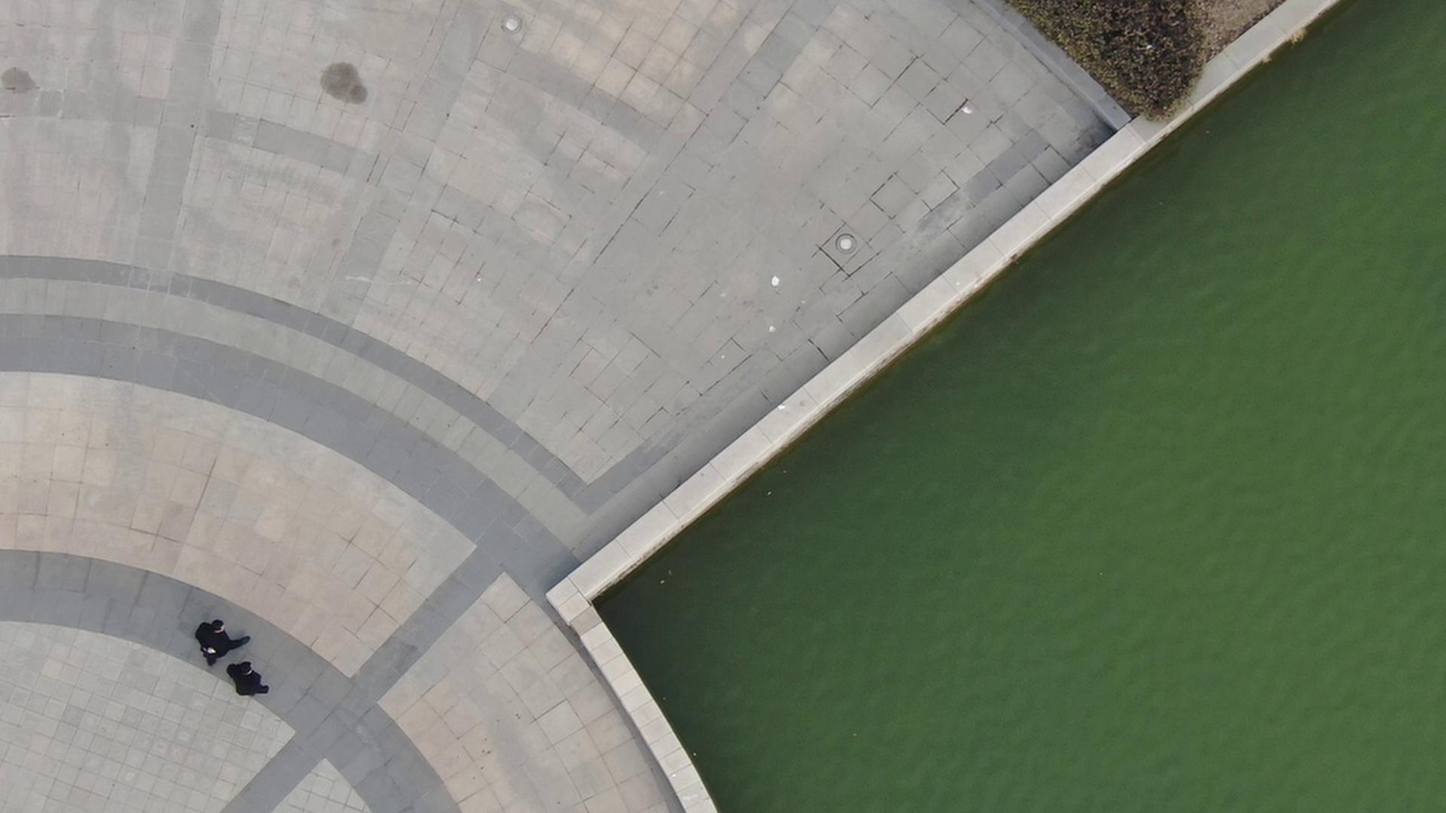human: (223, 646, 286, 708), (192, 614, 245, 668)
